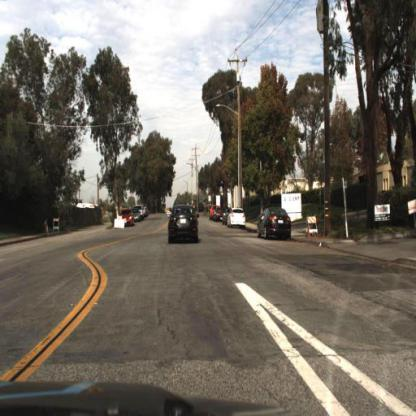car: (255, 206, 293, 244), (169, 202, 201, 244), (226, 204, 251, 231), (121, 207, 135, 228), (133, 206, 144, 226)
